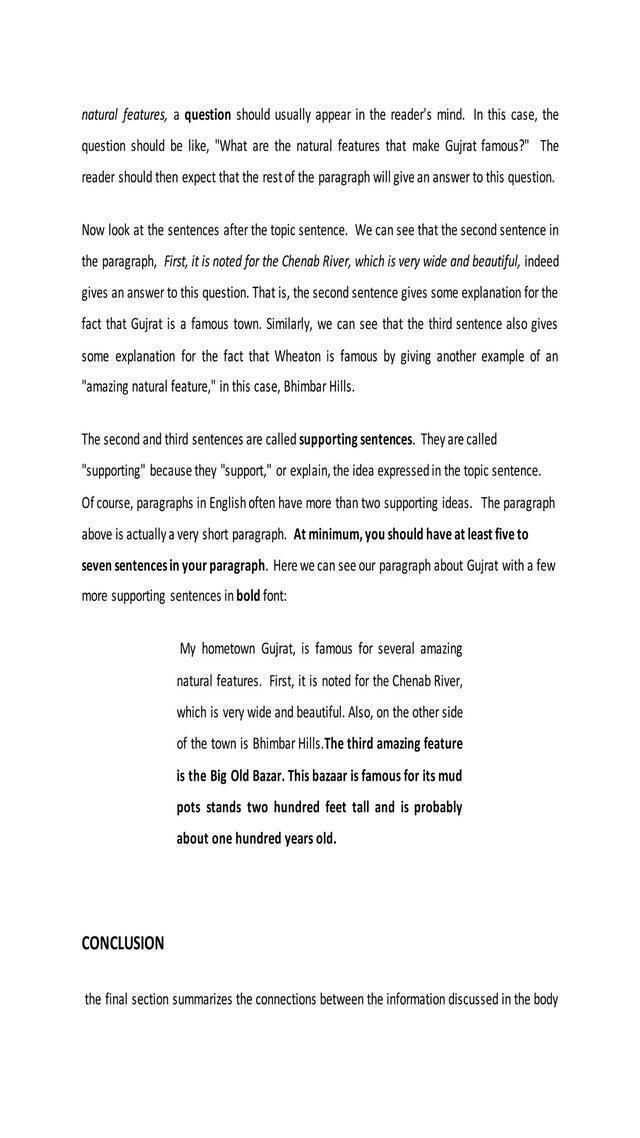Text: (78, 458, 546, 484), (79, 280, 566, 304), (77, 554, 560, 577), (78, 491, 560, 514), (79, 251, 565, 273), (76, 314, 562, 336), (79, 134, 562, 156), (78, 167, 561, 189), (77, 428, 504, 452), (79, 524, 534, 546), (79, 990, 564, 1010), (80, 105, 562, 125), (79, 346, 564, 365), (78, 220, 562, 238), (172, 764, 469, 788), (171, 795, 468, 818), (173, 733, 467, 756), (176, 637, 469, 660), (78, 376, 358, 398), (172, 702, 469, 722), (173, 673, 470, 693), (78, 586, 292, 606), (170, 827, 339, 851), (78, 929, 172, 957)
